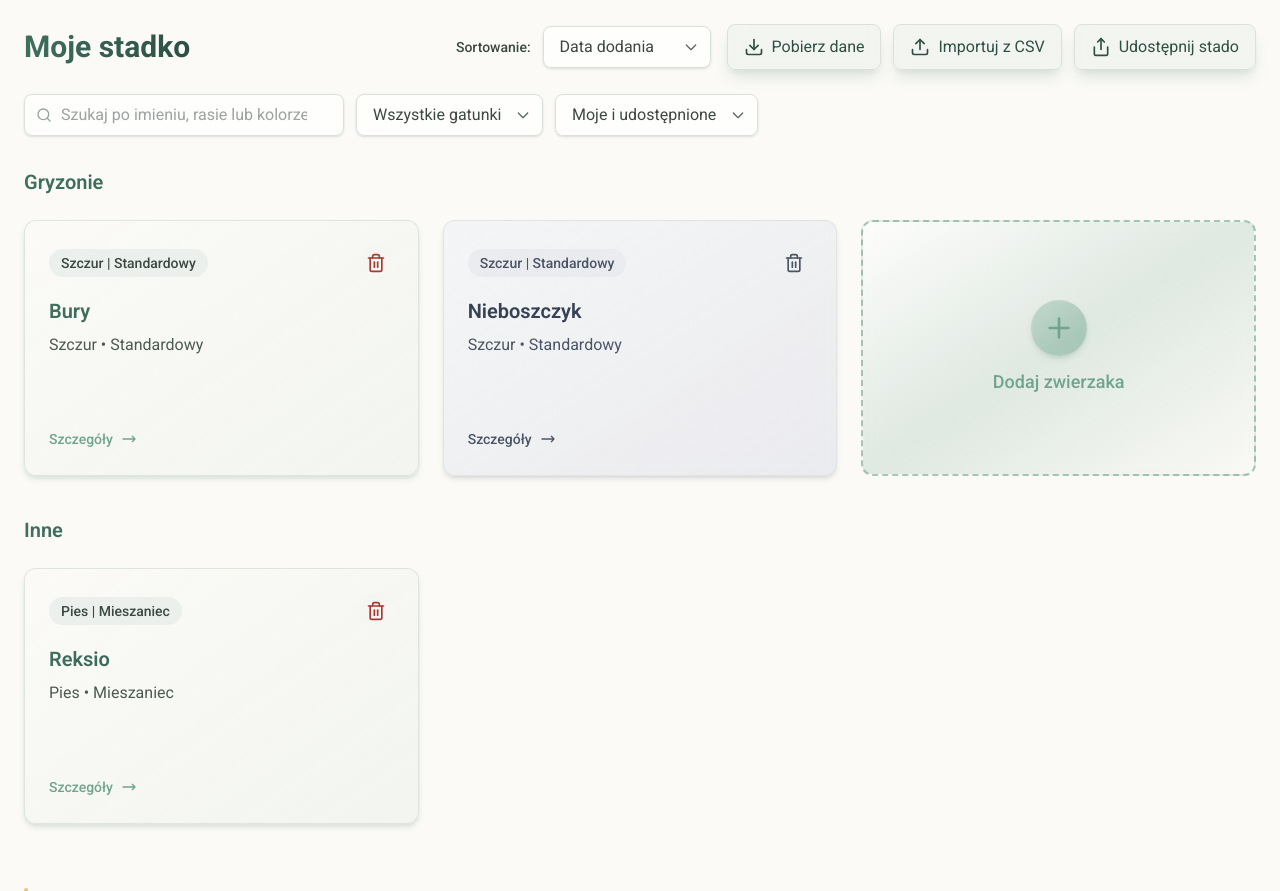
it: Dashboard filtering › filters pets by ownership (owned vs shared)
Select "Tylko udostępnione" in the dropdown named "Filtruj po właścicielu" at x=656, y=115, box 555,94 -> 758,136
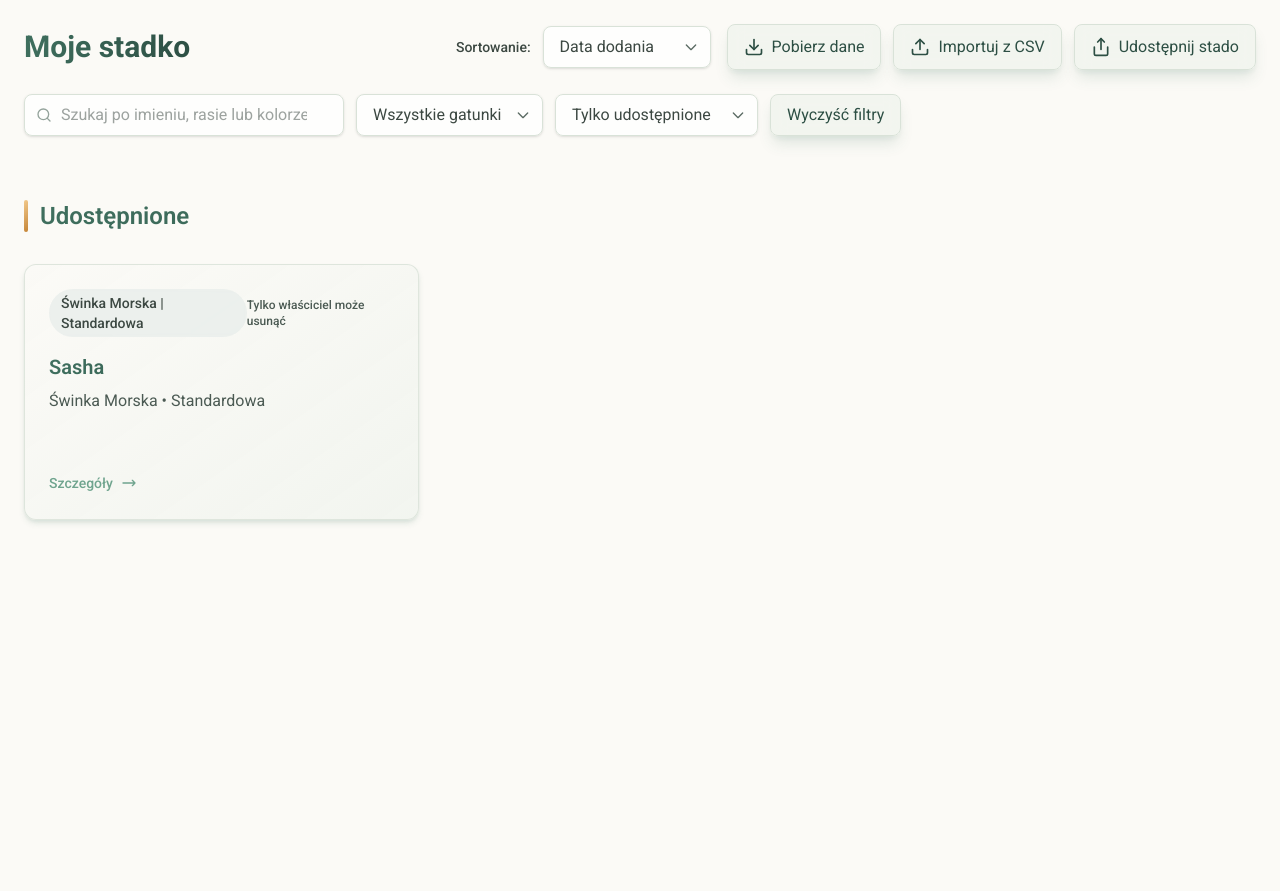
Now the heading "Bury" is gone
Now the heading "Reksio" is gone
Now the heading "Nieboszczyk" is gone
